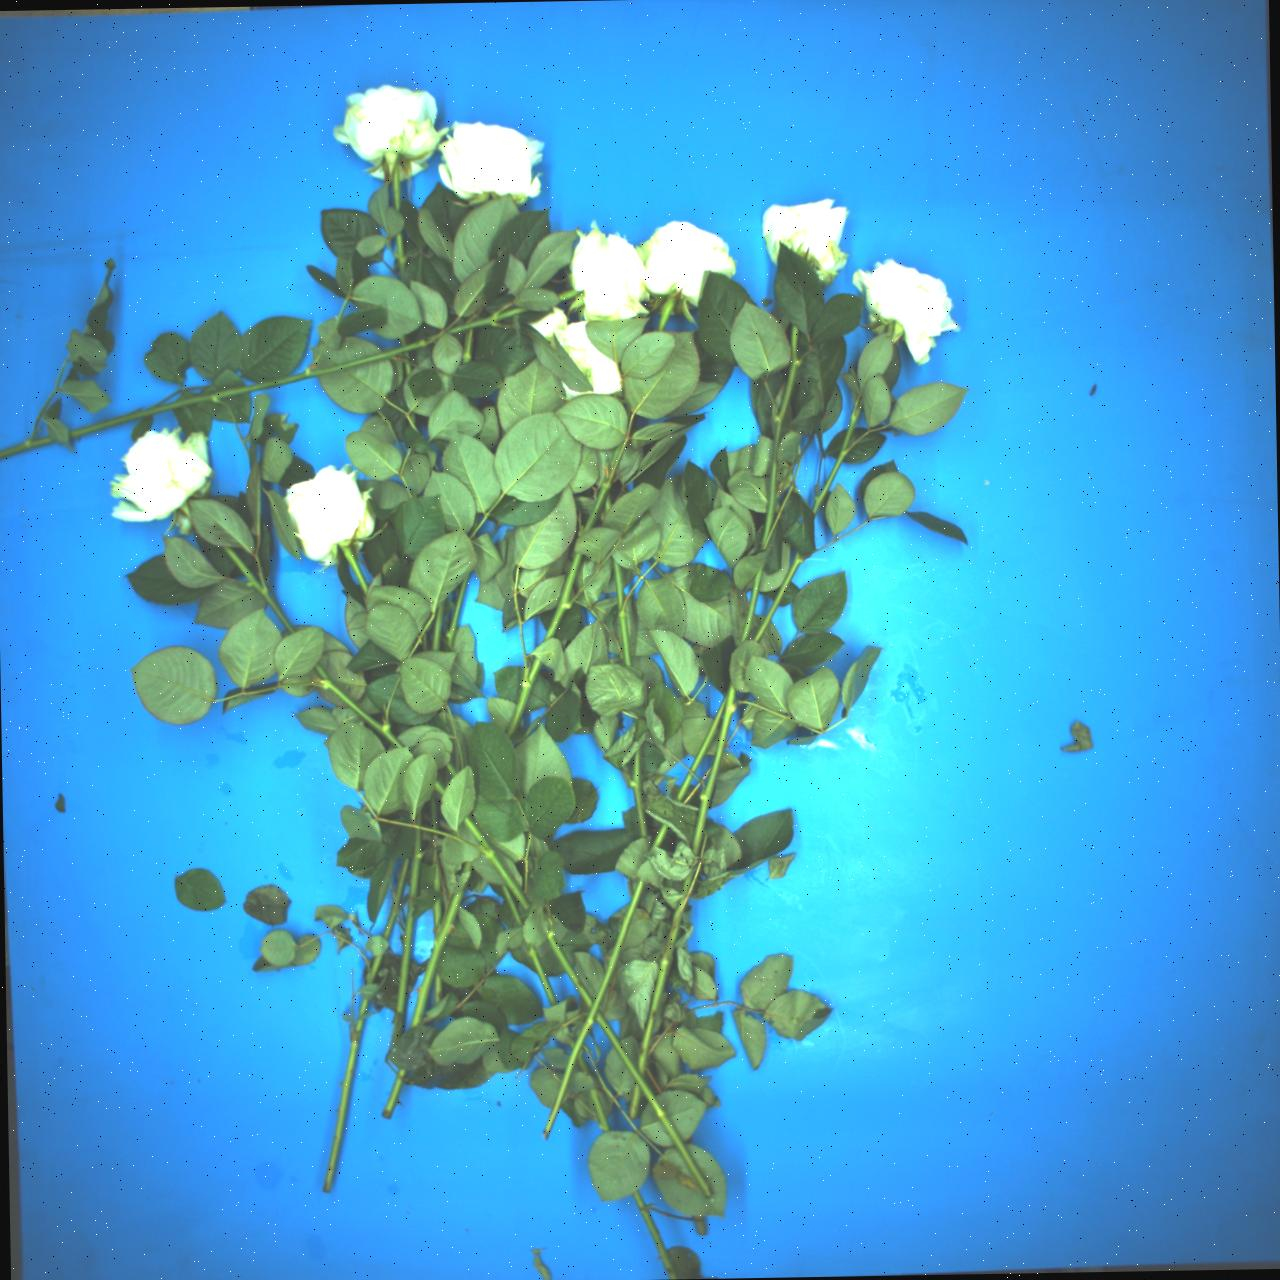Stem: (69, 333, 445, 438), (538, 879, 648, 1142), (591, 1012, 719, 1199), (633, 863, 699, 1075), (753, 325, 805, 552), (320, 998, 369, 1193), (308, 663, 409, 755), (687, 685, 740, 857), (408, 887, 465, 1033), (392, 810, 425, 1049), (805, 397, 872, 517), (217, 543, 302, 634), (461, 816, 533, 912), (675, 694, 731, 802), (749, 552, 808, 642), (580, 442, 629, 538), (633, 1191, 679, 1280), (544, 931, 595, 1009), (544, 550, 583, 645), (503, 660, 543, 736), (449, 302, 529, 339), (382, 857, 413, 942), (612, 560, 633, 667), (525, 941, 559, 1007), (443, 572, 471, 649), (740, 561, 765, 644), (627, 748, 649, 837), (342, 545, 372, 597), (428, 797, 443, 893), (0, 434, 54, 461), (381, 1069, 409, 1119), (588, 1089, 612, 1133), (501, 885, 524, 927), (653, 294, 678, 334), (363, 952, 383, 985), (394, 233, 408, 278), (434, 601, 445, 649), (390, 161, 401, 212), (628, 1084, 642, 1121), (652, 824, 669, 850), (576, 1054, 592, 1080), (462, 329, 474, 363), (693, 1217, 709, 1239), (434, 898, 443, 935), (559, 285, 580, 301), (433, 974, 443, 1006), (402, 353, 414, 375), (433, 781, 448, 796), (444, 762, 458, 778), (459, 863, 475, 873), (421, 631, 428, 651), (409, 415, 416, 431)
flower: (839, 234, 973, 367), (622, 202, 744, 321), (518, 298, 631, 420), (328, 77, 451, 182), (274, 457, 386, 572), (107, 427, 215, 523), (436, 121, 544, 204), (761, 197, 849, 284), (571, 225, 645, 320)
